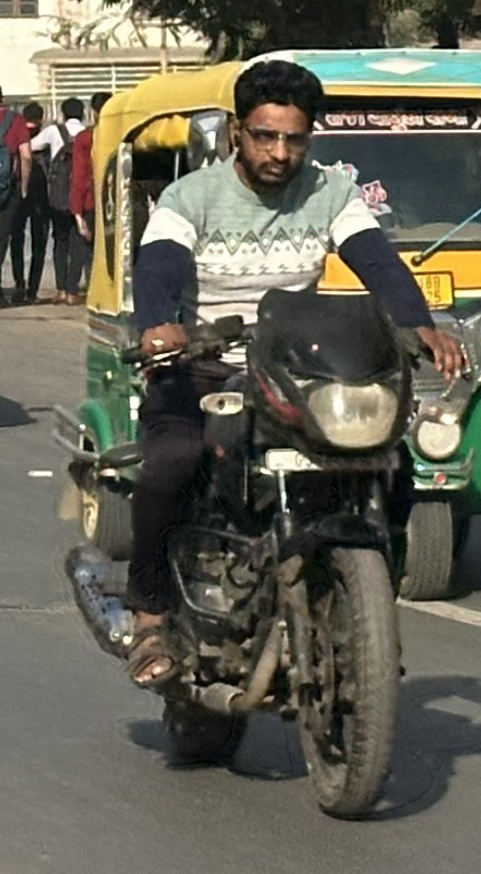BikeWithRider: (40, 49, 479, 827)
NoHelmet: (214, 52, 337, 195)
